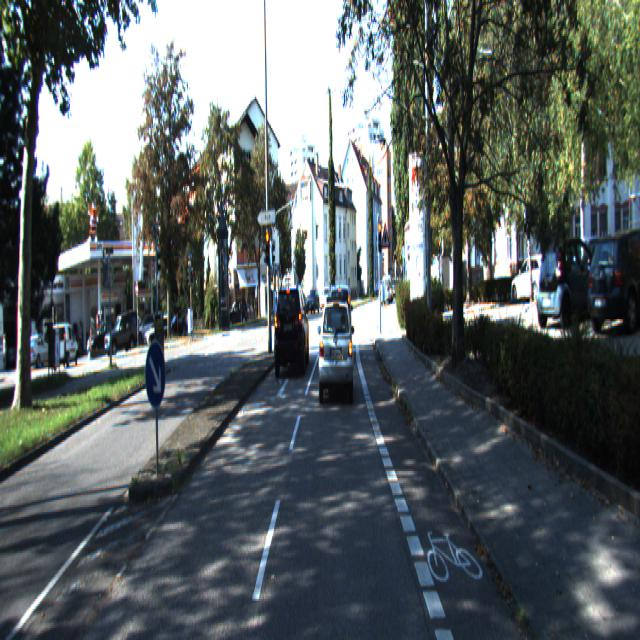Car: (538, 236, 616, 330), (582, 230, 639, 338), (318, 303, 353, 405), (273, 286, 308, 378), (328, 286, 352, 361)
